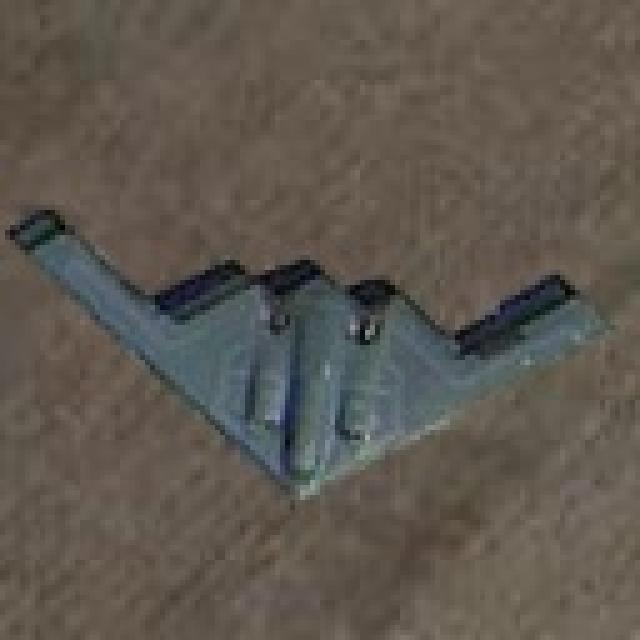B-2_TopDown: (0, 195, 615, 505)
